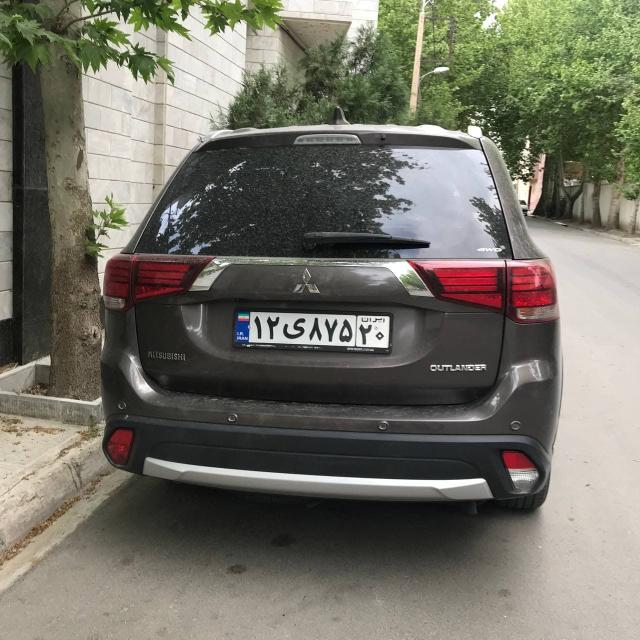Plates: (235, 312, 390, 349)
